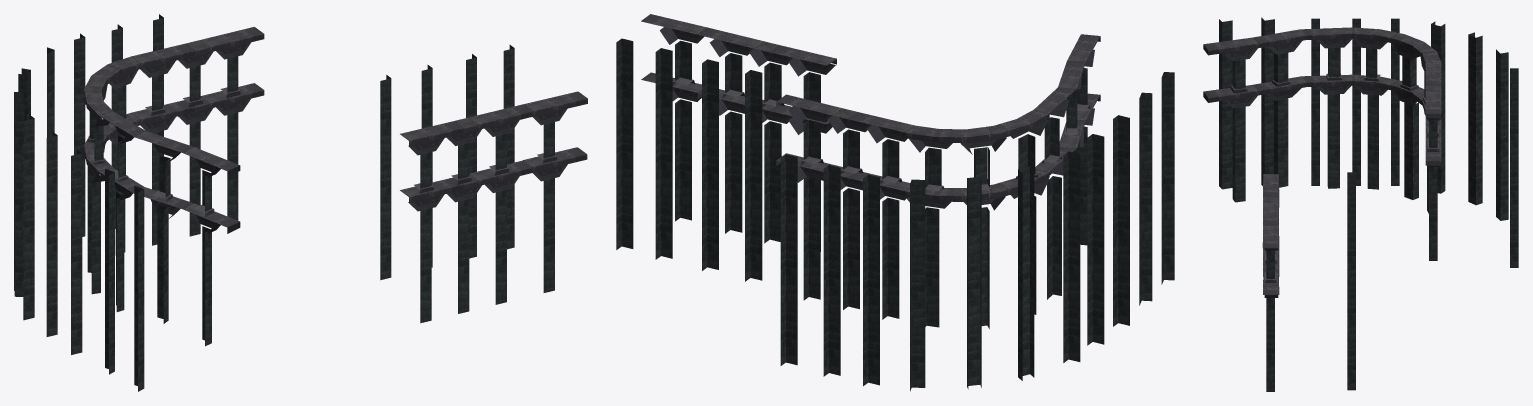
File: terrain_section02_guanka10D_04.FBX
3 renders of one model, left to right at view 1: azimuth 30°, elevation 25°; view 2: azimuth 150°, elevation 25°; view 3: azimuth 270°, elevation 25°, orthographic. The views are drawn at different scales.
Parts seen in each view (by area): view 1: terrain_section02_guanka10D_04; view 2: terrain_section02_guanka10D_04; view 3: terrain_section02_guanka10D_04.
Part boxes in pixels (x1=…): terrain_section02_guanka10D_04: x1=14, y1=14, x2=587, y2=391; terrain_section02_guanka10D_04: x1=616, y1=14, x2=1174, y2=391; terrain_section02_guanka10D_04: x1=1203, y1=17, x2=1518, y2=391.
Size of the model in its own units: 186 by 124 by 85.83.
